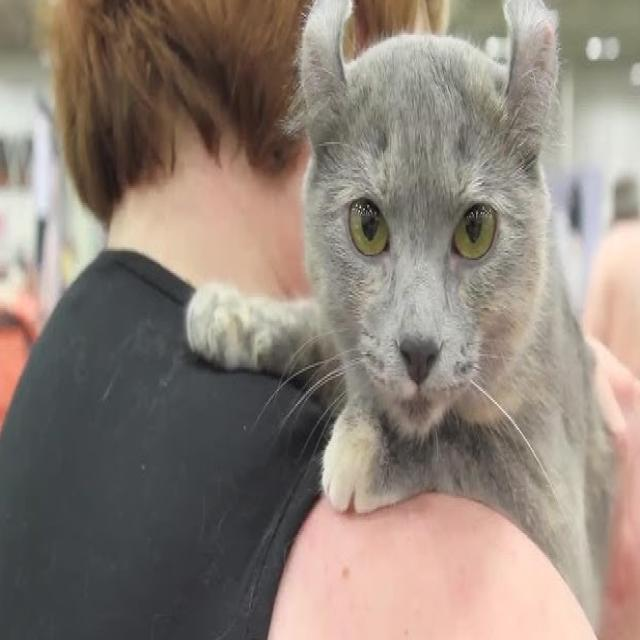American Curl: (182, 0, 622, 640)
